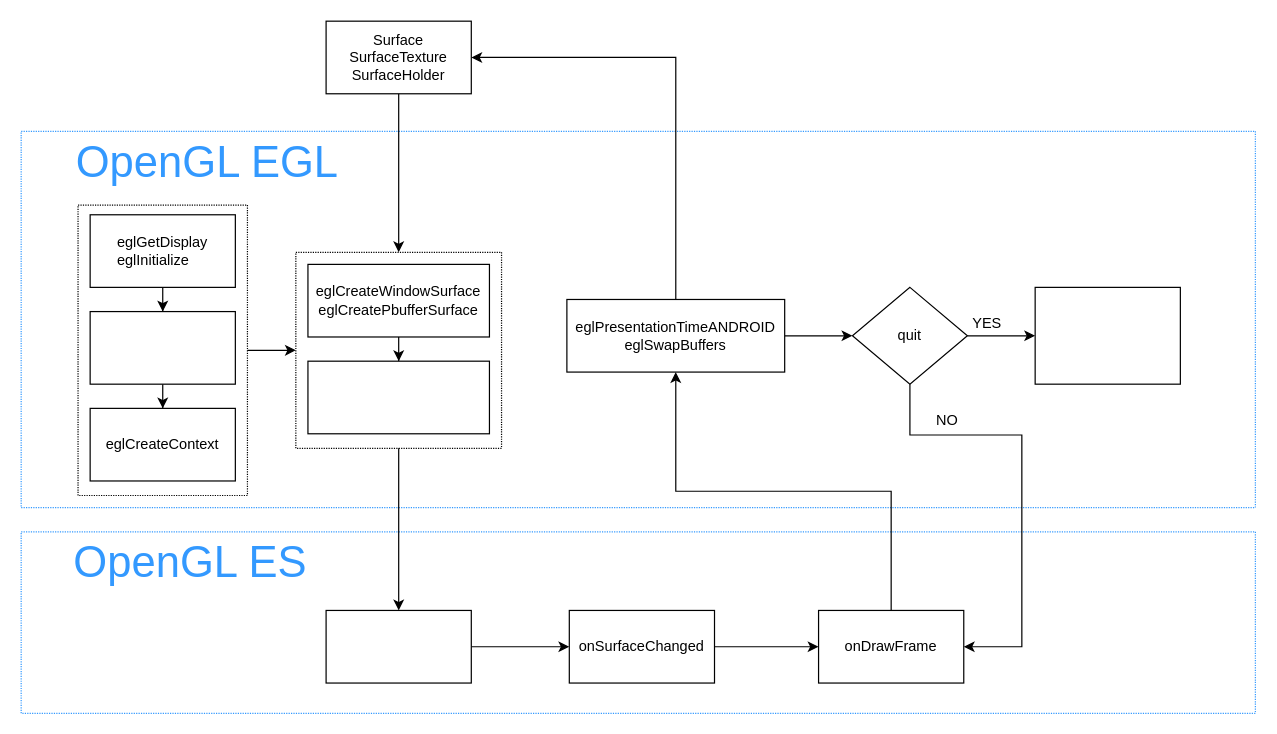
The diagram is 1277 pixels wide and 734 high, and some of its shapes have lost their labels. The shapes that lost their labels are listed below. From the top down, each one's box as (x1, y1, x2, y2) in pixels, then its label:
(89, 310, 235, 384): eglChooseConfig
(1034, 286, 1180, 384): eglDestroySurface eglMakeCurrent eglDestroyContext eglReleaseThread eglTerminate
(307, 360, 489, 434): eglMakeCurrent
(325, 609, 471, 683): onSurfaceCreated
